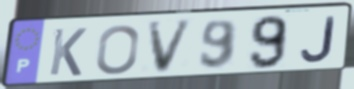9: (245, 13, 290, 71), (197, 18, 236, 72)
J: (299, 15, 338, 64)
K: (47, 26, 89, 78)
O: (94, 23, 141, 77)
V: (146, 17, 196, 76)
